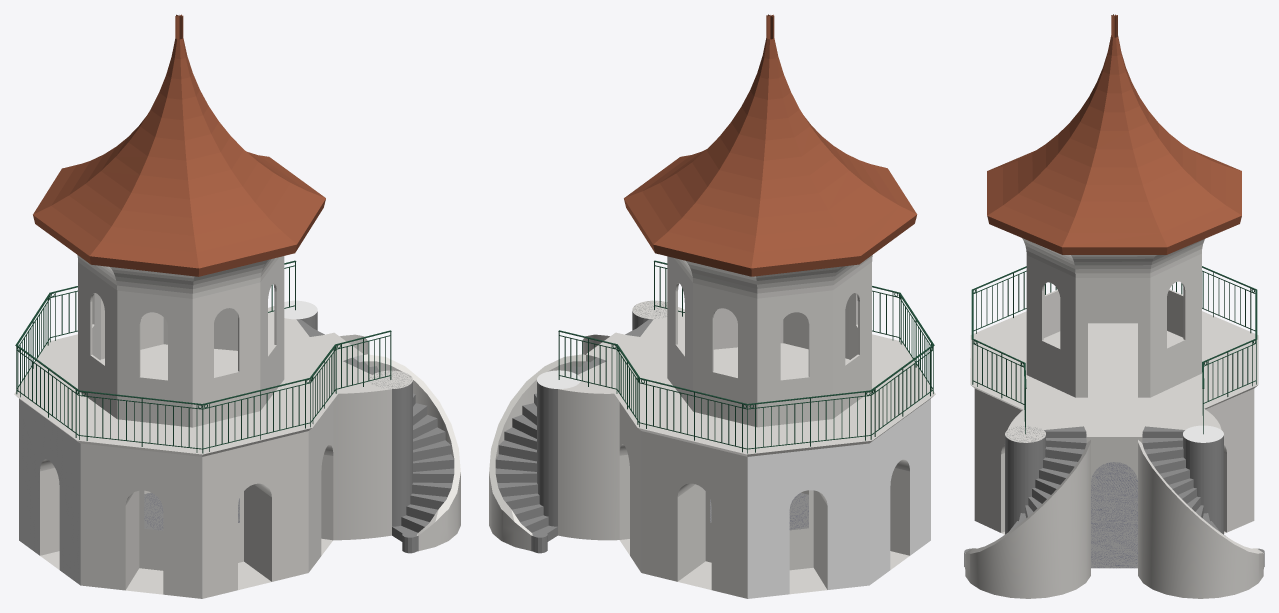
File: pavilon.dae
The picture shows the model from 3 angles, left to right: view 1: azimuth 30°, elevation 25°; view 2: azimuth 150°, elevation 25°; view 3: azimuth 270°, elevation 25°; orthographic projection. The views are drawn at different scales.
Visible parts, largest first — view 1: SketchUp (×10), group_9, group_4, group_0, group_2, group_1; view 2: SketchUp (×10), group_3, group_0, group_1, group_2; view 3: SketchUp (×9), group_3, group_4, group_9, group_0.
Boxes of the visible parts, x1,y1,x2,y2 form: SketchUp (×10): (14, 38, 454, 598); group_9: (182, 38, 325, 243); group_4: (364, 354, 460, 550); group_0: (15, 260, 391, 405); group_2: (16, 265, 391, 409); group_1: (16, 305, 391, 449); SketchUp (×10): (495, 38, 935, 598); group_3: (489, 354, 585, 550); group_0: (558, 260, 934, 405); group_1: (559, 305, 933, 449); group_2: (559, 265, 933, 409); SketchUp (×9): (964, 35, 1264, 568); group_3: (1138, 437, 1263, 598); group_4: (965, 437, 1090, 598); group_9: (987, 36, 1112, 246); group_0: (971, 266, 1257, 388).
Size of the model in its own units: 334 by 259 by 457.
